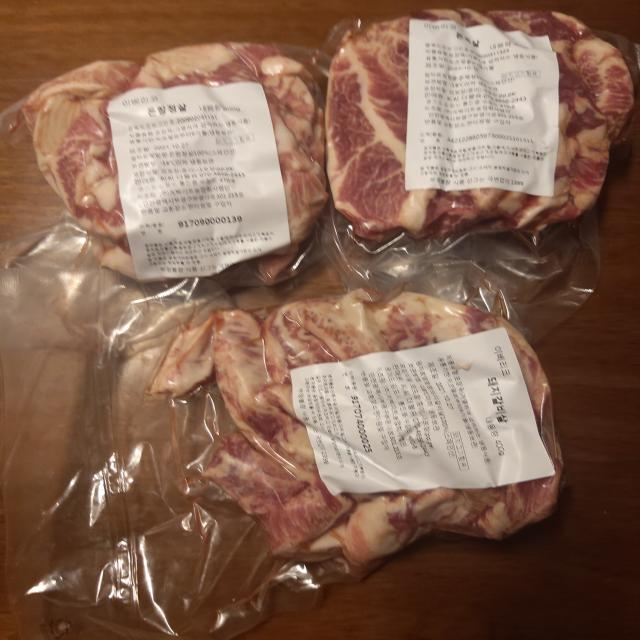pork: (69, 286, 576, 555), (298, 21, 632, 259), (27, 44, 330, 288)
